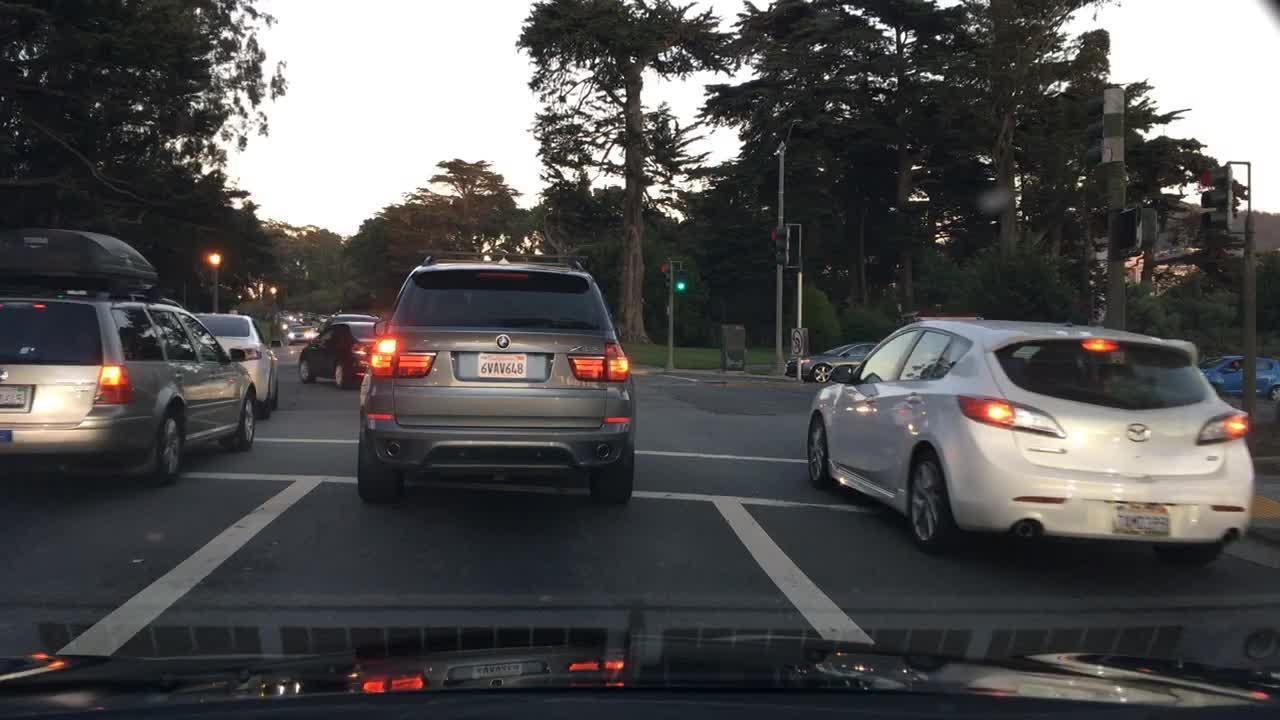Mazda: (1115, 413, 1171, 453)
bmw: (494, 331, 517, 350)
